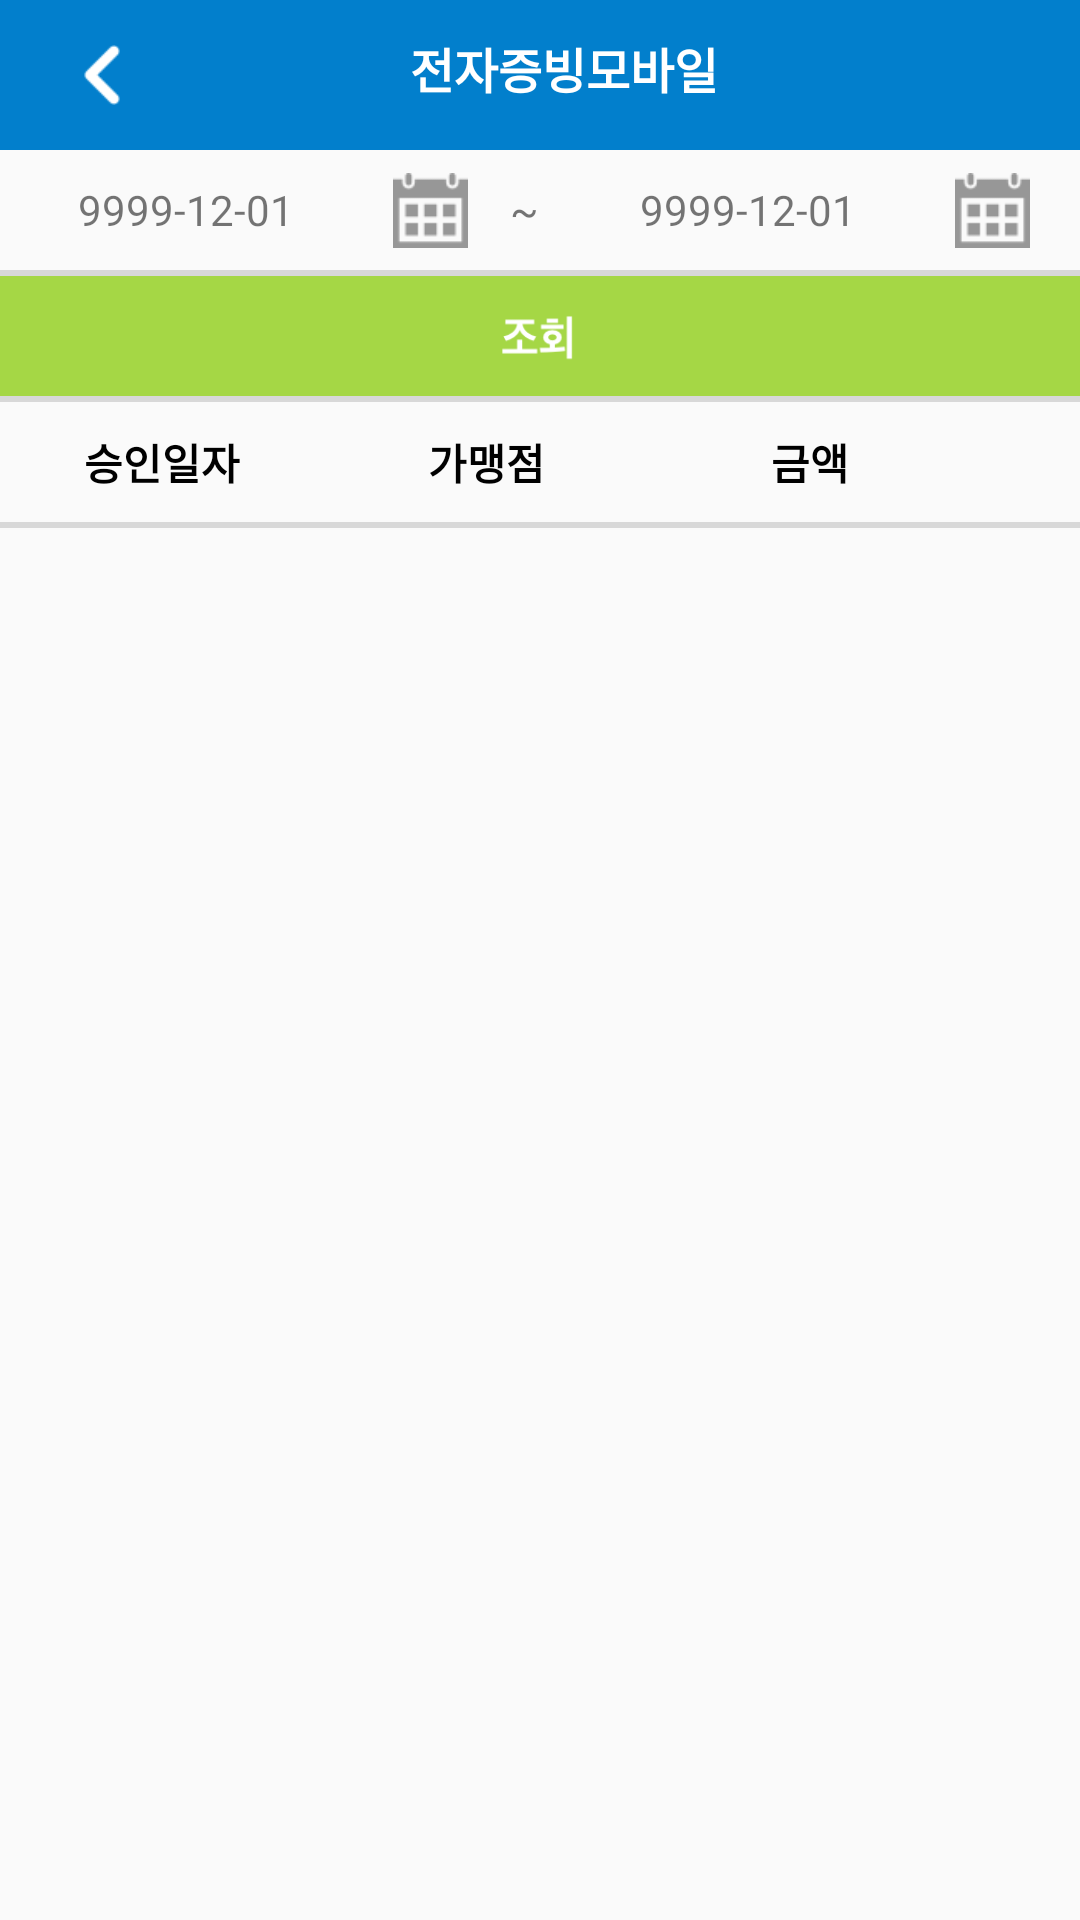

Icons on this 1080x1920 Android screen, each with the point to tap as (x=x, y=y):
back: (x=102, y=75)
sheet calendar: (x=430, y=210), (x=992, y=210)
